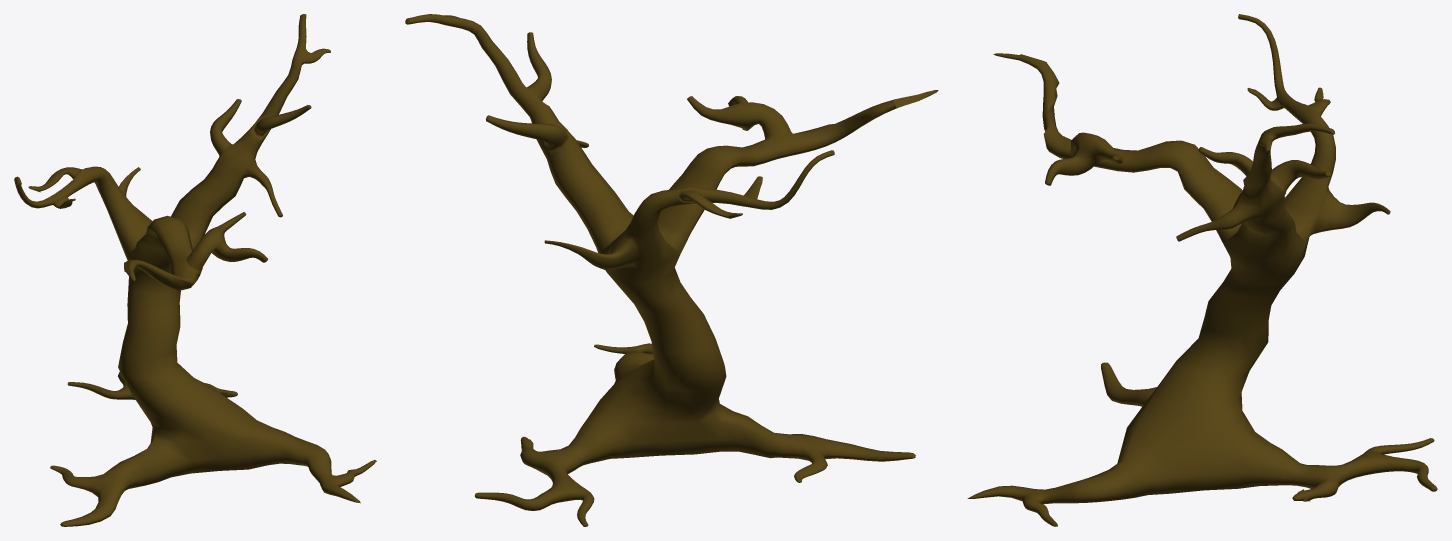
The model's file is Tree_.fbx.
3 views of the same model, side by side, from view 1: azimuth 30°, elevation 25°; view 2: azimuth 150°, elevation 25°; view 3: azimuth 270°, elevation 25° (orthographic). The views are drawn at different scales.
Visible parts, largest first — view 1: polySurface66Shape; view 2: polySurface66Shape; view 3: polySurface66Shape.
Boxes of the visible parts, bbox=[...] form: polySurface66Shape: bbox=[14, 14, 376, 526]; polySurface66Shape: bbox=[405, 14, 938, 526]; polySurface66Shape: bbox=[967, 14, 1437, 526].
Bounding box in the file's own units: 11.84 × 12.26 × 11.86.
